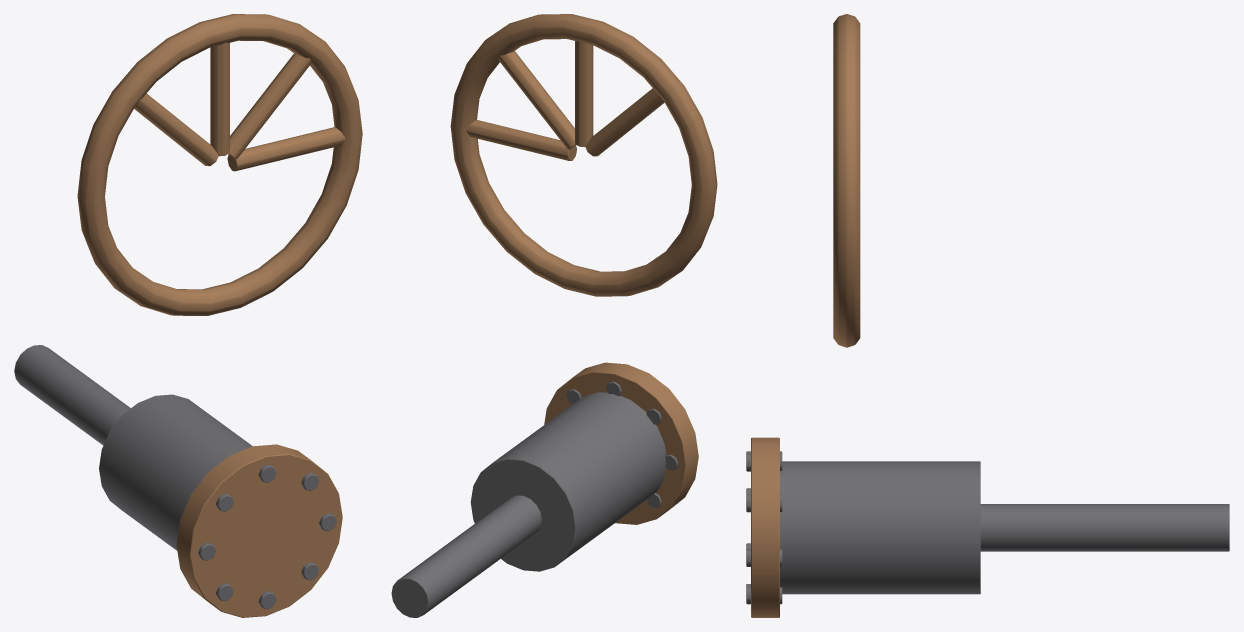
The model's file is LV_valve_wheel.fbx.
3 views of the same model, side by side, from view 1: azimuth 30°, elevation 25°; view 2: azimuth 150°, elevation 25°; view 3: azimuth 270°, elevation 25° (orthographic). The views are drawn at different scales.
Visible parts, largest first — view 1: LV_valve_wheel; view 2: LV_valve_wheel; view 3: LV_valve_wheel.
Boxes of the visible parts, x1,y1,x2,y2 form: LV_valve_wheel: (14, 14, 362, 617); LV_valve_wheel: (391, 14, 717, 617); LV_valve_wheel: (746, 14, 1229, 617).
Bounding box in the file's own units: 0.6991 × 1.34 × 1.01.
